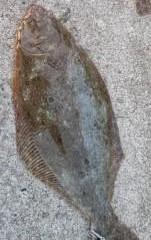fish: (10, 4, 142, 239)
